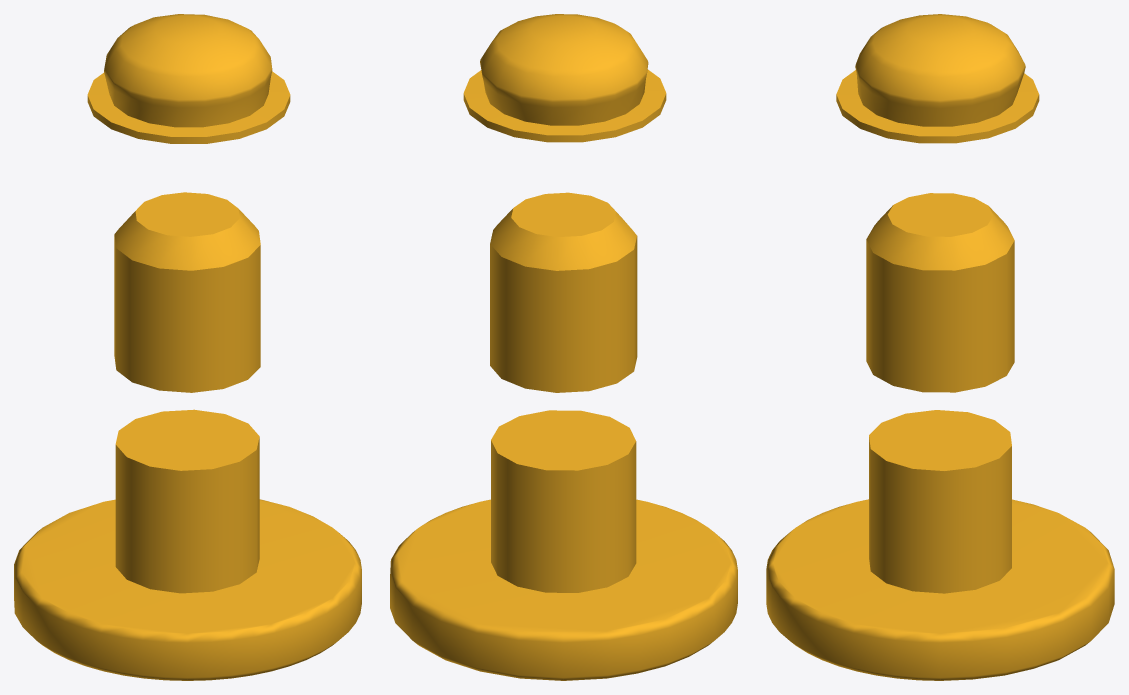
Rendered from Screw.fbx.
The picture shows the model from 3 angles, left to right: view 1: azimuth 30°, elevation 25°; view 2: azimuth 150°, elevation 25°; view 3: azimuth 270°, elevation 25°; orthographic projection.
Parts seen in each view (by area): view 1: Element_Stand_Nut_base.001, Element_Stand_Nut_tip.001, Element_Stand_Nut_tile.001, Element_Stand_Nut_cap.001; view 2: Element_Stand_Nut_base.001, Element_Stand_Nut_tip.001, Element_Stand_Nut_tile.001, Element_Stand_Nut_cap.001; view 3: Element_Stand_Nut_base.001, Element_Stand_Nut_tip.001, Element_Stand_Nut_tile.001, Element_Stand_Nut_cap.001.
Part boxes in pixels (x1=…): Element_Stand_Nut_base.001: x1=14, y1=499, x2=361, y2=680; Element_Stand_Nut_tip.001: x1=114, y1=192, x2=260, y2=392; Element_Stand_Nut_tile.001: x1=115, y1=409, x2=259, y2=593; Element_Stand_Nut_cap.001: x1=87, y1=14, x2=290, y2=143; Element_Stand_Nut_base.001: x1=390, y1=499, x2=737, y2=680; Element_Stand_Nut_tip.001: x1=490, y1=192, x2=637, y2=392; Element_Stand_Nut_tile.001: x1=491, y1=410, x2=636, y2=592; Element_Stand_Nut_cap.001: x1=463, y1=14, x2=666, y2=142; Element_Stand_Nut_base.001: x1=766, y1=499, x2=1114, y2=680; Element_Stand_Nut_tip.001: x1=866, y1=193, x2=1014, y2=392; Element_Stand_Nut_tile.001: x1=869, y1=410, x2=1011, y2=593; Element_Stand_Nut_cap.001: x1=836, y1=14, x2=1039, y2=143.
Bounding box in the file's own units: 118 × 216 × 118.
